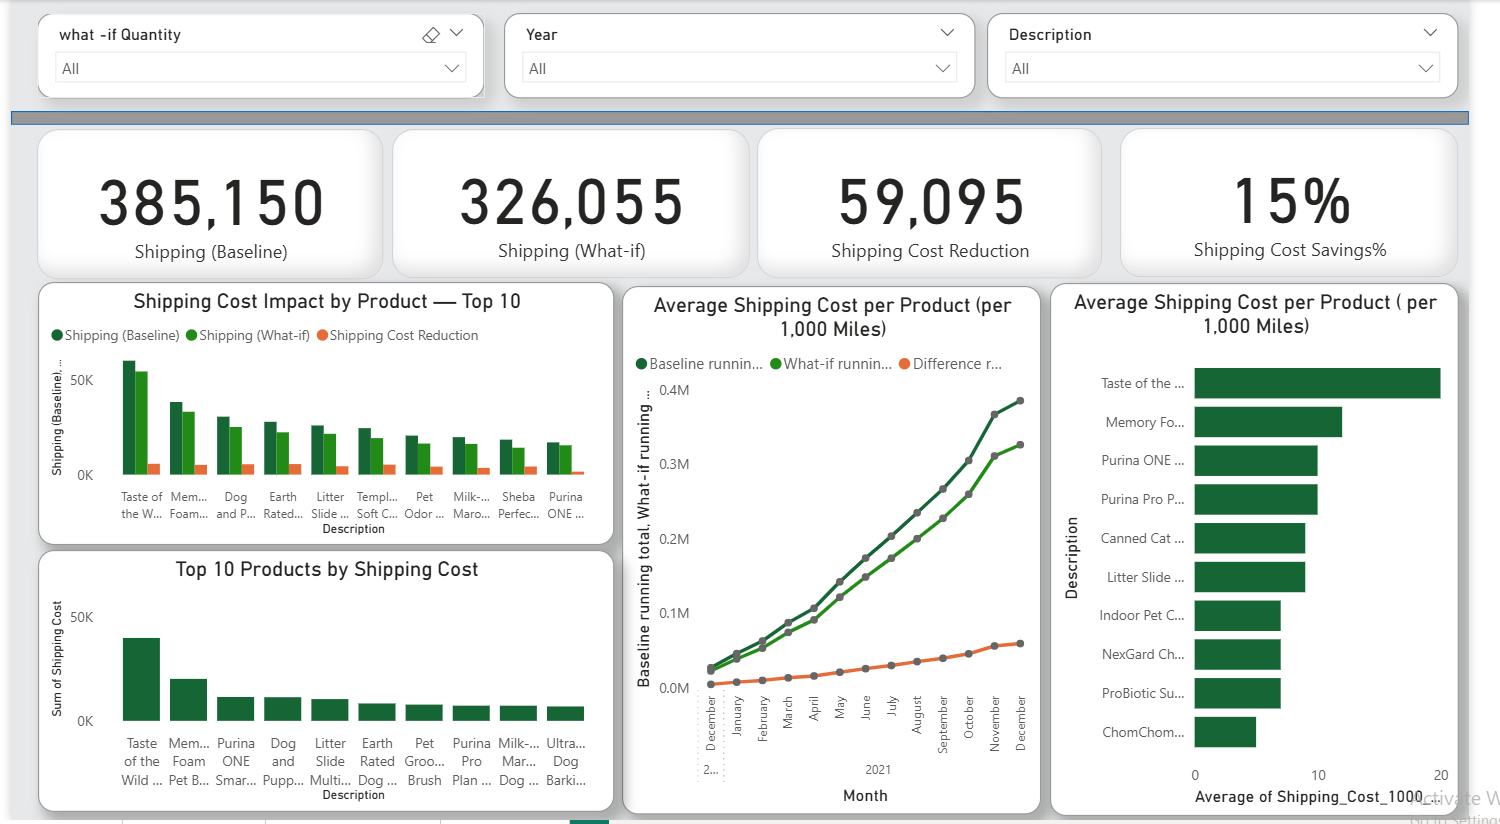

This screenshot's page, from the dashboard's own definition file:
{"tool":"powerbi","page":{"name":"What-if Analysis","canvas":[1280,720],"ordinal":3},"visuals":[{"type":"card","fields":{"Values":["measure.Shipping (What-if)"]},"box":[334.9,113.5,313.9,131.1],"z":1000},{"type":"card","fields":{"Values":["measure.Shipping Saving %"]},"box":[973.8,112.4,297.4,131.1],"z":2000},{"type":"card","fields":{"Values":["measure.Shipping (Baseline)"]},"box":[23.1,113.5,304,132.2],"z":3000},{"type":"card","fields":{"Values":["measure.Shipping (Difference)"]},"box":[655.4,112.4,302.9,132.2],"z":4000},{"type":"shape","box":[0,97.5,1280.2,12.3],"z":5000},{"type":"slicer","fields":{"Values":["what -if Quantity.what -if Quantity"]},"box":[23.1,11,393.3,74.9],"z":6000},{"type":"clusteredColumnChart","title":"Shipping Cost Impact by Product — Top 10","fields":{"Category":["sales.Description"],"Y":["measure.Shipping (Baseline)","measure.Shipping (What-if)","measure.Shipping (Difference)"]},"box":[23.3,247.8,505.6,231.1],"z":7000},{"type":"lineChart","title":"Average Shipping Cost per Product (per 1,000 Miles)","fields":{"Category":["sales.Transaction Date.Variation.Date Hierarchy.Year","sales.Year Month.Variation.Date Hierarchy.Month"],"Y":["measure.Baseline running total","measure.What-if running total","measure.Difference running total"]},"box":[536.7,251.1,367.8,464.4],"z":8000},{"type":"slicer","fields":{"Values":["Market Basket.Transaction Date.Variation.Date Hierarchy.Year"]},"box":[432.9,11,414.2,74.9],"z":9000},{"type":"slicer","fields":{"Values":["products.Description"]},"box":[857,11,414.2,74.9],"z":10000},{"type":"barChart","title":"Average Shipping Cost per Product  ( per 1,000 Miles)","fields":{"Category":["products.Description"],"Y":["Avg(products.Shipping_Cost_1000_mile)"]},"box":[912.2,248.9,358.9,467.8],"z":11000},{"type":"columnChart","title":"Top 10 Products by Shipping Cost","fields":{"Category":["sales.Description"],"Y":["Sum(sales.Shipping Cost)"]},"box":[23.3,483.3,505.6,230],"z":12000},{"type":"qnaVisual","box":[0,570,150,150],"z":13000}]}

Visuals, with their boxes in screenshot pixels (x1, y1, x2, y2), scaled from the page's 1280x720 canvas onto the 1500x824 screenshot:
card - measure.Shipping (What-if): x1=392, y1=130, x2=760, y2=280
card - measure.Shipping Saving %: x1=1141, y1=129, x2=1490, y2=279
card - measure.Shipping (Baseline): x1=27, y1=130, x2=383, y2=281
card - measure.Shipping (Difference): x1=768, y1=129, x2=1123, y2=280
shape: x1=0, y1=112, x2=1499, y2=126
slicer - what -if Quantity.what -if Quantity: x1=27, y1=13, x2=488, y2=98
"Shipping Cost Impact by Product — Top 10" clusteredColumnChart: x1=27, y1=284, x2=620, y2=548
"Average Shipping Cost per Product (per 1,000 Miles)" lineChart: x1=629, y1=287, x2=1060, y2=819
slicer - Market Basket.Transaction Date.Variation.Date Hierarchy.Year: x1=507, y1=13, x2=993, y2=98
slicer - products.Description: x1=1004, y1=13, x2=1490, y2=98
"Average Shipping Cost per Product  ( per 1,000 Miles)" barChart: x1=1069, y1=285, x2=1490, y2=820
"Top 10 Products by Shipping Cost" columnChart: x1=27, y1=553, x2=620, y2=816
qnaVisual: x1=0, y1=652, x2=176, y2=823
